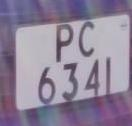1: (101, 54, 115, 103)
3: (59, 61, 84, 106)
4: (81, 55, 104, 102)
6: (36, 61, 60, 110)
C: (75, 17, 100, 62)
P: (52, 18, 77, 66)
